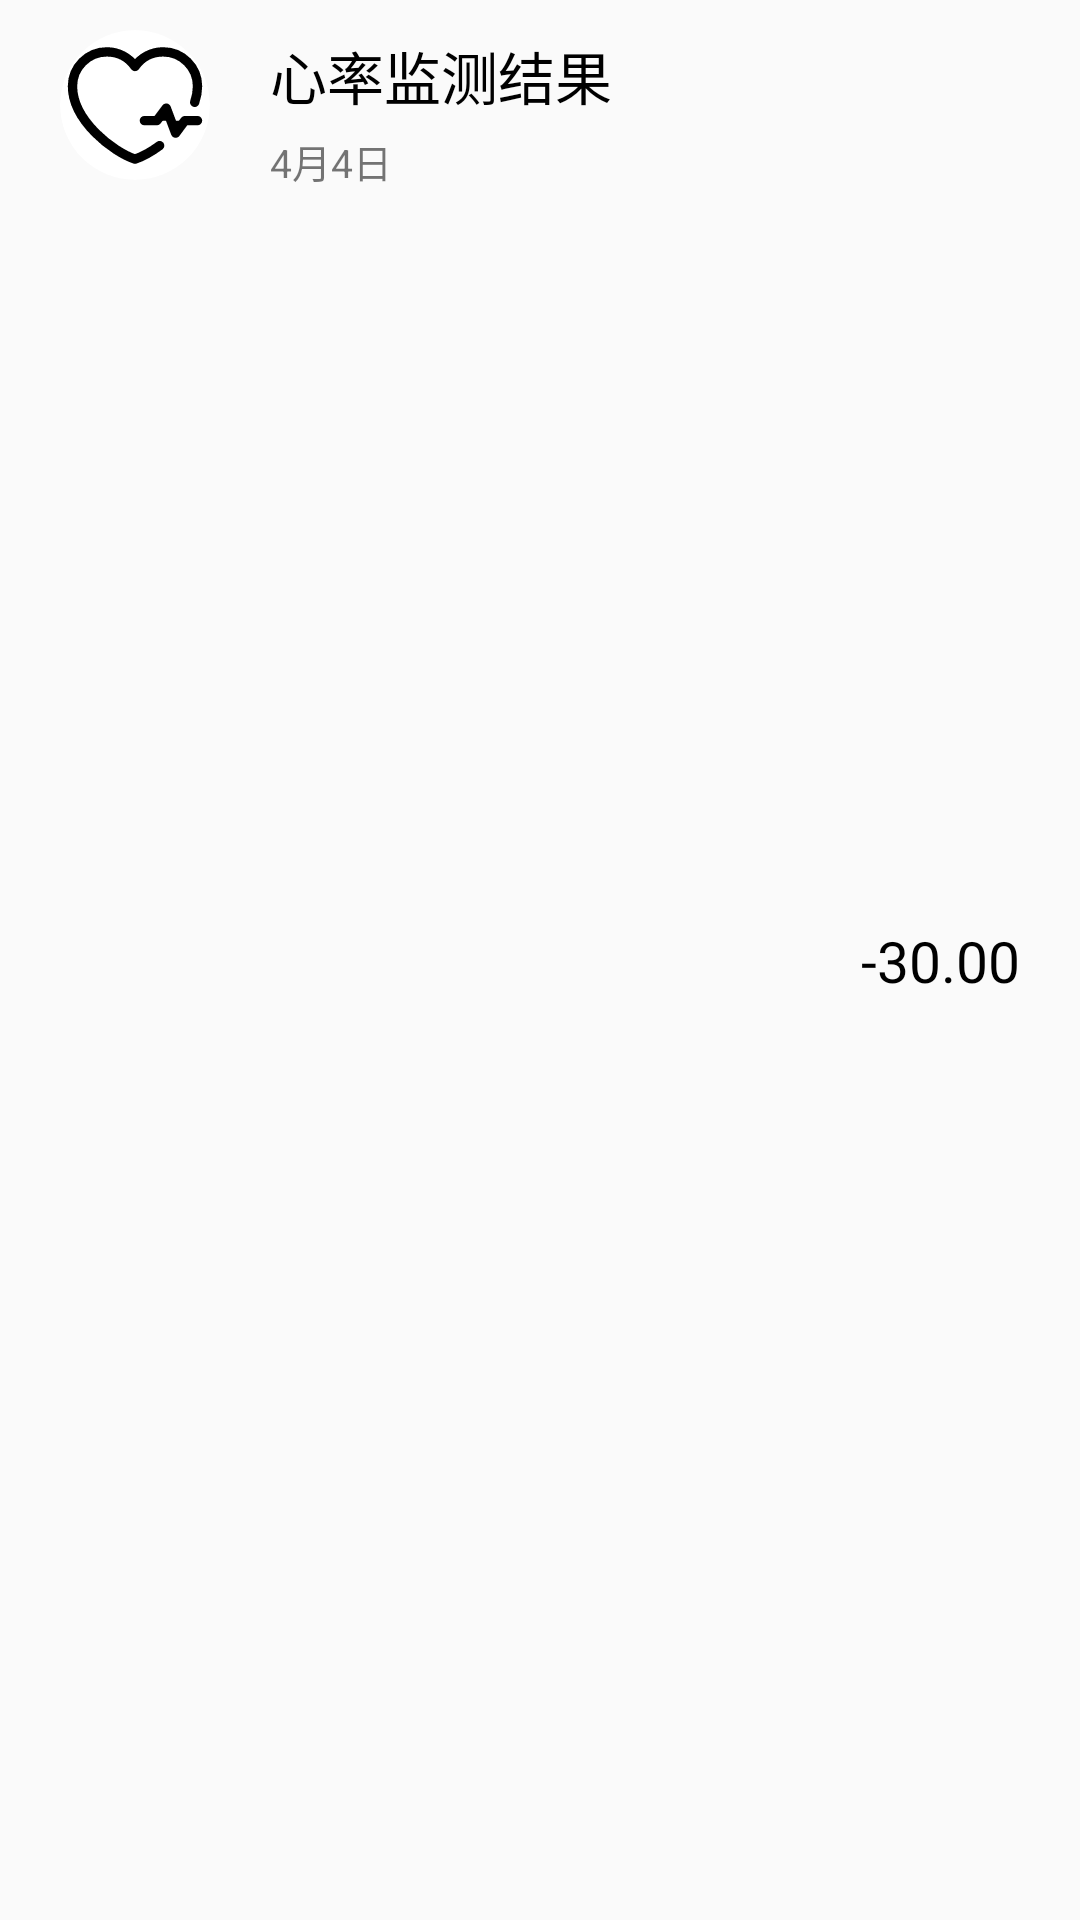

Locate icon controls on the screen. Image size 1080×1920, boxes as (x1, y1, x2, y2).
heart rate: (67, 47, 203, 164)
